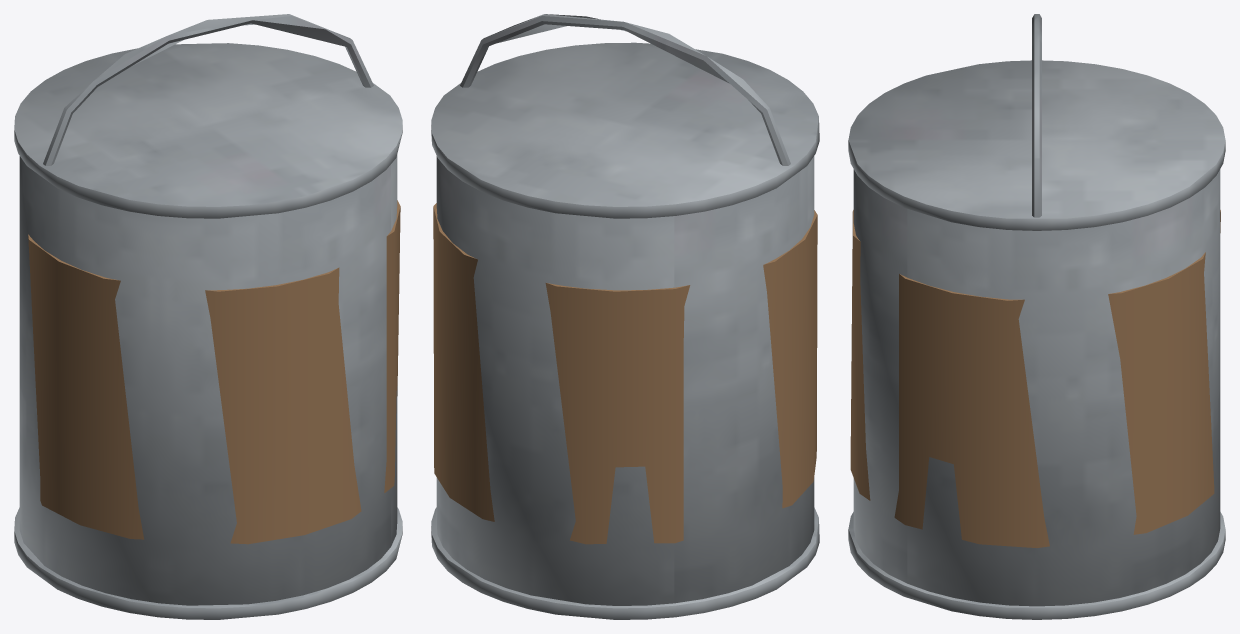
File: IMP-LIQ-003_lod1.glb
The picture shows the model from 3 angles, left to right: view 1: azimuth 30°, elevation 25°; view 2: azimuth 150°, elevation 25°; view 3: azimuth 270°, elevation 25°; orthographic projection. The views are drawn at different scales.
Parts seen in each view (by area): view 1: IMP-LIQ-003_lata, IMP-LIQ-003_rotulo, IMP-LIQ-003_aro, IMP-LIQ-003_aro2, IMP-LIQ-003_alca; view 2: IMP-LIQ-003_lata, IMP-LIQ-003_aro, IMP-LIQ-003_rotulo, IMP-LIQ-003_aro2, IMP-LIQ-003_alca; view 3: IMP-LIQ-003_lata, IMP-LIQ-003_rotulo, IMP-LIQ-003_aro, IMP-LIQ-003_aro2, IMP-LIQ-003_alca.
Part boxes in pixels (bbox=[...]): IMP-LIQ-003_lata: bbox=[19, 155, 397, 605]; IMP-LIQ-003_rotulo: bbox=[28, 200, 400, 544]; IMP-LIQ-003_aro: bbox=[14, 43, 402, 218]; IMP-LIQ-003_aro2: bbox=[14, 507, 402, 619]; IMP-LIQ-003_alca: bbox=[43, 14, 373, 165]; IMP-LIQ-003_lata: bbox=[436, 156, 814, 605]; IMP-LIQ-003_aro: bbox=[431, 42, 819, 218]; IMP-LIQ-003_rotulo: bbox=[433, 203, 817, 544]; IMP-LIQ-003_aro2: bbox=[431, 507, 819, 619]; IMP-LIQ-003_alca: bbox=[460, 14, 790, 165]; IMP-LIQ-003_lata: bbox=[853, 169, 1220, 606]; IMP-LIQ-003_rotulo: bbox=[850, 210, 1220, 547]; IMP-LIQ-003_aro: bbox=[848, 60, 1225, 230]; IMP-LIQ-003_aro2: bbox=[848, 512, 1225, 619]; IMP-LIQ-003_alca: bbox=[1032, 14, 1041, 217].
Size of the model in its own units: 0.1634 by 0.2396 by 0.1634.
Materials: 3 (1 with a texture image).
